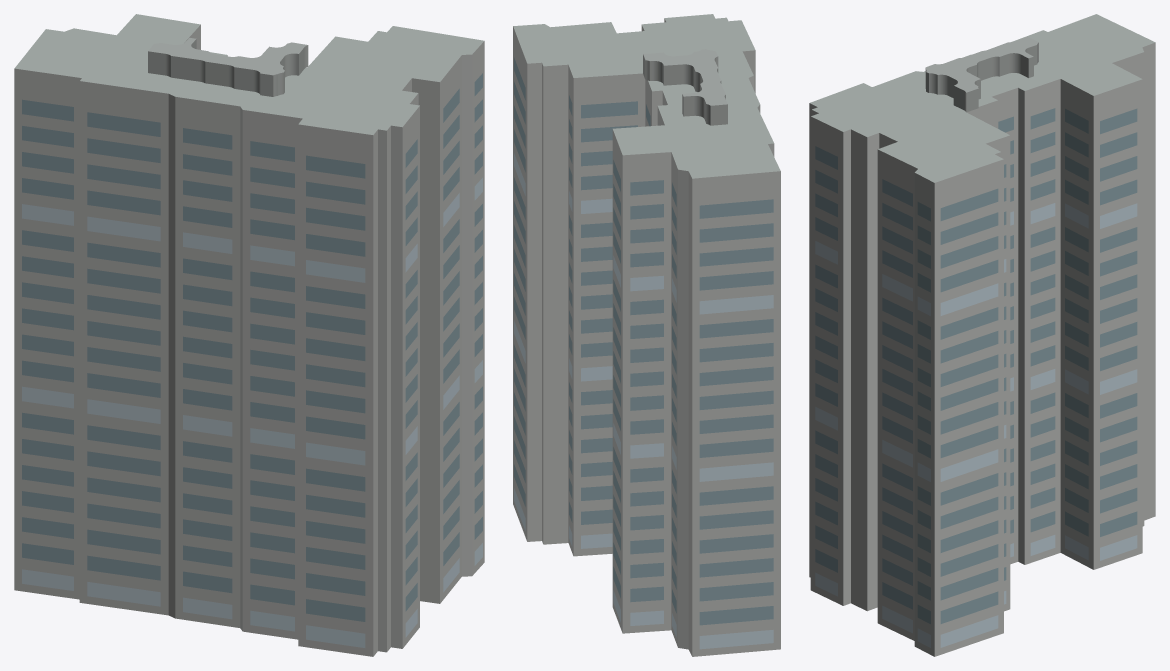
The model's file is fallback-godeok-arteon-completion-340.glb.
3 views of the same model, side by side, from view 1: azimuth 30°, elevation 25°; view 2: azimuth 150°, elevation 25°; view 3: azimuth 270°, elevation 25° (orthographic). The views are drawn at different scales.
Parts seen in each view (by area): view 1: fallback-godeok-arteon-completion-340; view 2: fallback-godeok-arteon-completion-340; view 3: fallback-godeok-arteon-completion-340.
Part boxes in pixels (x1=…): fallback-godeok-arteon-completion-340: x1=14, y1=14, x2=484, y2=656; fallback-godeok-arteon-completion-340: x1=513, y1=14, x2=780, y2=656; fallback-godeok-arteon-completion-340: x1=809, y1=14, x2=1155, y2=656.
Bounding box in the file's own units: 44.04 × 60 × 38.15.
